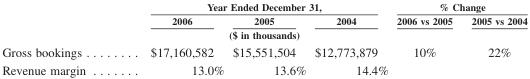table: (1, 0, 526, 76)
table column: (1, 0, 117, 76), (117, 0, 227, 76), (227, 0, 309, 76), (309, 0, 391, 76), (391, 0, 461, 76), (461, 0, 526, 76)
table column header: (1, 0, 526, 42)
table row: (1, 42, 526, 60), (1, 60, 526, 76), (1, 27, 526, 42), (1, 13, 526, 27), (1, 0, 526, 13)
table spanning cell: (117, 27, 391, 42), (117, 0, 391, 13), (391, 13, 461, 42), (461, 13, 526, 42), (391, 0, 526, 13)
